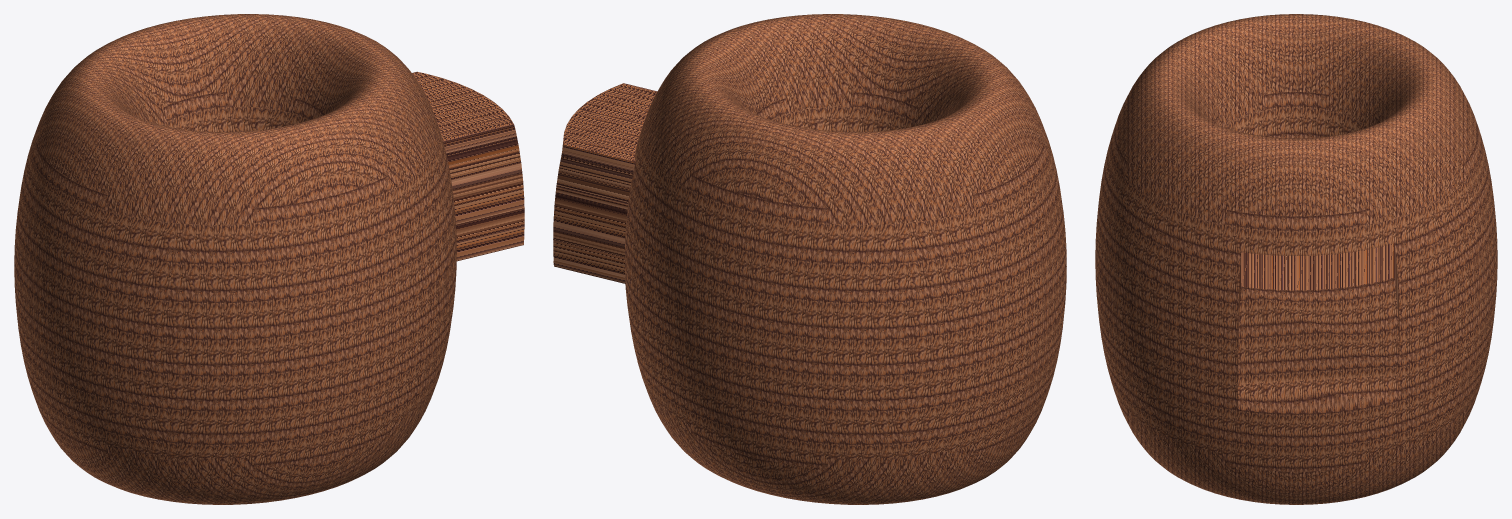
File: TorusV2.fbx
3 views of the same model, side by side, from view 1: azimuth 30°, elevation 25°; view 2: azimuth 150°, elevation 25°; view 3: azimuth 270°, elevation 25° (orthographic).
Parts seen in each view (by area): view 1: Torus; view 2: Torus; view 3: Torus.
Boxes of the visible parts, x1,y1,x2,y2 form: Torus: [14, 14, 524, 504]; Torus: [553, 14, 1066, 504]; Torus: [1095, 14, 1497, 504].
Size of the model in its own units: 6702 by 5093 by 5142.
1 material, 1 textured.
